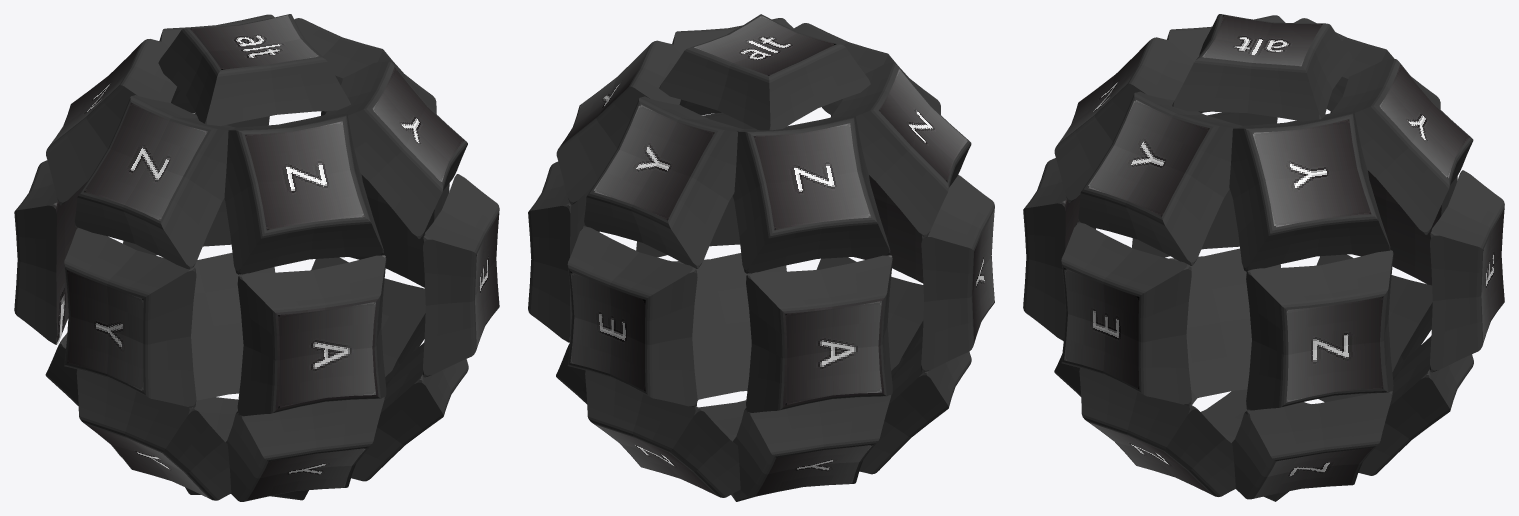
File: keyboard2.glb
The picture shows the model from 3 angles, left to right: view 1: azimuth 30°, elevation 25°; view 2: azimuth 150°, elevation 25°; view 3: azimuth 270°, elevation 25°; orthographic projection.
Visible parts, largest first — view 1: Cube.007, Cube.012, Cube.003, Cube.008, Cube.004, Cube.019, Cube.013, Cube.017, Cube.009, Cube.020, Cube.018, Cube.014 (+8 smaller); view 2: Cube.018, Cube.020, Cube.011, Cube.006, Cube.004, Cube.008, Cube.021, Cube.003, Cube.014, Cube.001, Cube.022, Cube.002 (+8 smaller); view 3: Cube.002, Cube.001, Cube.017, Cube.019, Cube.004, Cube.011, Cube.010, Cube.006, Cube.022, Cube.009, Cube.012, Cube.007 (+8 smaller).
Boxes of the visible parts, box(x1,y1,x2,y2) form: Cube.007: box(237, 255, 386, 416); Cube.012: box(224, 113, 383, 274); Cube.003: box(64, 227, 196, 407); Cube.008: box(74, 95, 235, 269); Cube.004: box(158, 14, 350, 126); Cube.019: box(324, 61, 467, 239); Cube.013: box(226, 397, 384, 501); Cube.017: box(423, 174, 499, 377); Cube.009: box(76, 369, 231, 500); Cube.020: box(46, 39, 176, 205); Cube.018: box(14, 160, 87, 344); Cube.014: box(191, 252, 275, 400); Cube.018: box(746, 255, 892, 412); Cube.020: box(732, 115, 890, 273); Cube.011: box(584, 96, 744, 268); Cube.006: box(567, 226, 697, 406); Cube.004: box(659, 14, 870, 130); Cube.008: box(830, 63, 971, 237); Cube.021: box(733, 395, 891, 497); Cube.003: box(921, 174, 994, 372); Cube.014: box(585, 370, 740, 497); Cube.001: box(556, 40, 681, 204); Cube.022: box(673, 253, 786, 399); Cube.002: box(528, 161, 599, 342); Cube.002: box(1246, 250, 1393, 410); Cube.001: box(1229, 111, 1390, 271); Cube.017: box(1061, 222, 1191, 405); Cube.019: box(1078, 91, 1241, 265); Cube.004: box(1172, 14, 1352, 121); Cube.011: box(1331, 59, 1473, 235); Cube.010: box(1231, 391, 1392, 499); Cube.006: box(1430, 170, 1504, 372); Cube.022: box(1079, 368, 1235, 496); Cube.009: box(1169, 248, 1280, 398); Cube.012: box(1054, 37, 1194, 202); Cube.007: box(1023, 158, 1095, 340).
Bounding box in the file's own units: 5.88 × 5.95 × 6.05.
7 materials, 6 textured.
